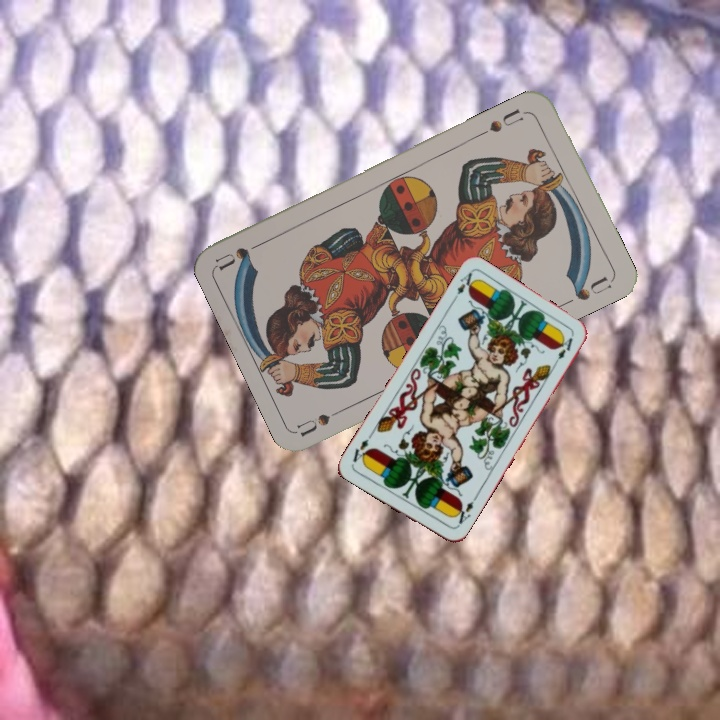EA: (448, 268, 478, 305), (449, 497, 476, 530)
SU: (294, 402, 352, 439), (485, 104, 526, 136)
